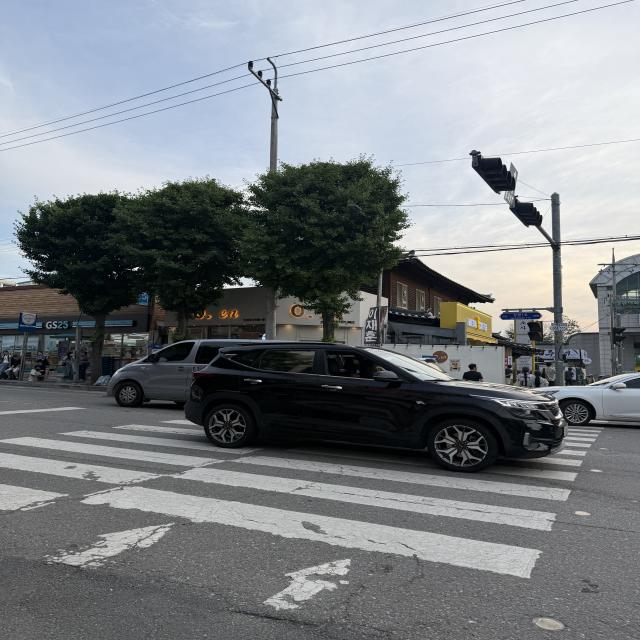car: (182, 339, 500, 468), (102, 327, 291, 408), (537, 372, 640, 428)
